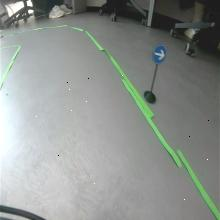right: (152, 43, 167, 64)
